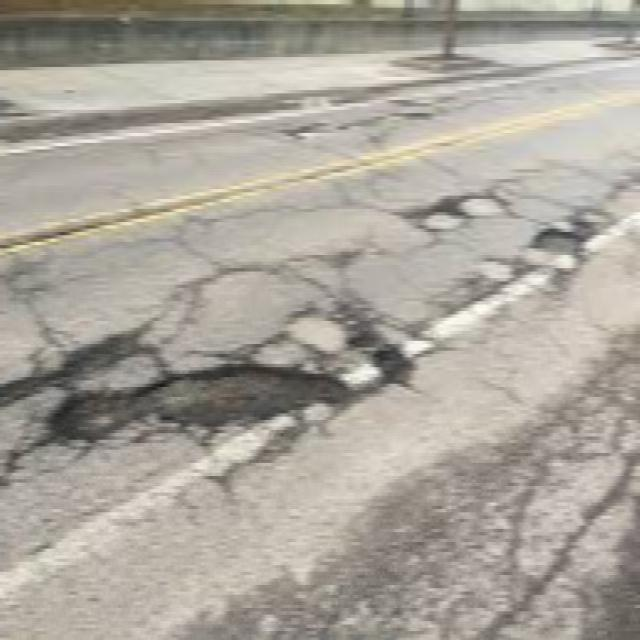Pothole: (17, 333, 160, 446), (162, 358, 369, 436), (290, 294, 356, 358), (441, 189, 510, 222), (531, 231, 591, 266), (364, 99, 442, 122), (274, 121, 349, 141), (413, 207, 457, 239)
